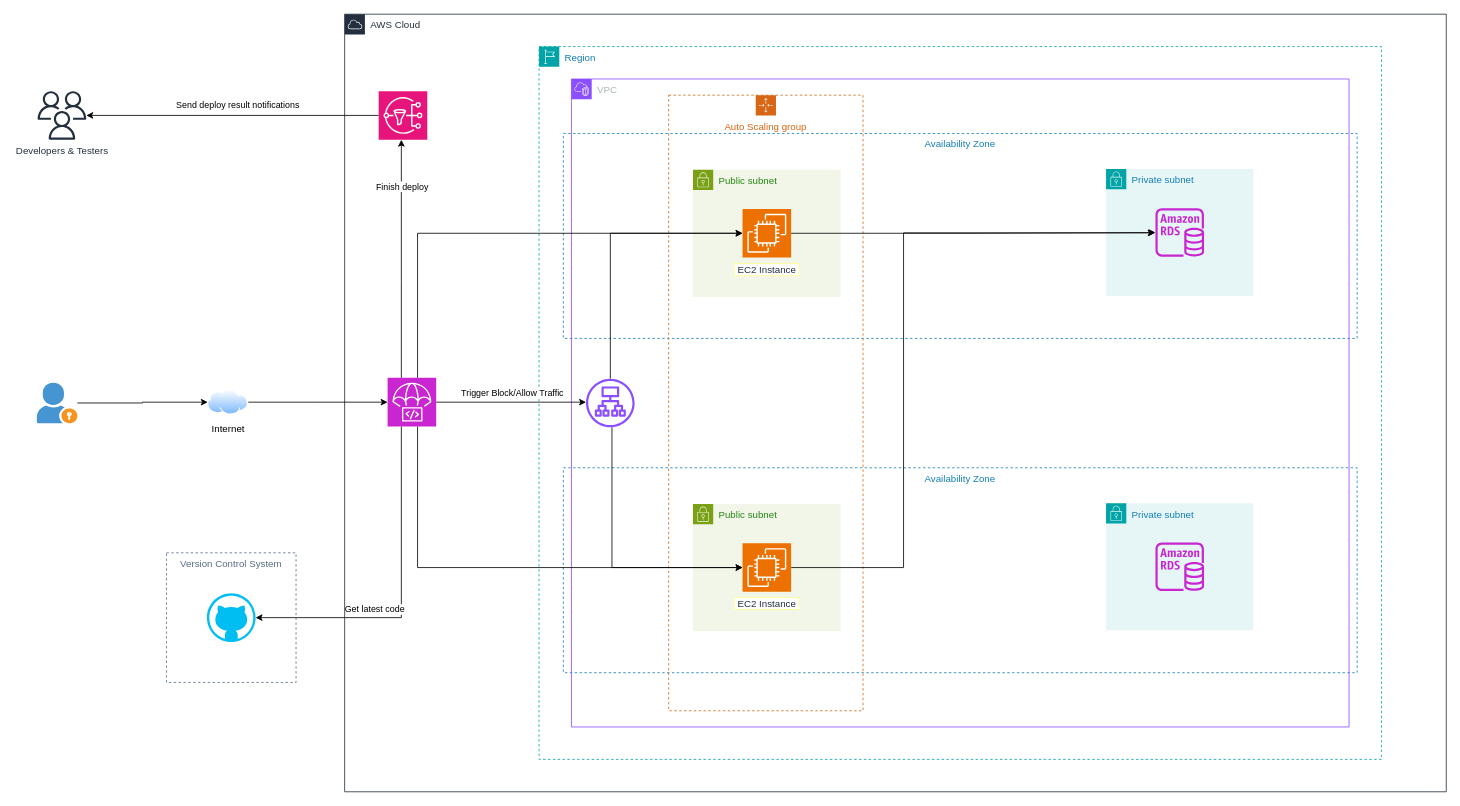
Image size: 1460x806. Some labels were removed from this diagram. Here are the shapes that lost their labels. From the top down, the centre of each, then its label:
the point at 402,115: Simple Notification Service
the point at 1179,232: Primary RDS Instance
the point at 56,402: Deployment Admin
the point at 411,401: CodeDeploy Service
the point at 610,402: Application Load Balancer
the point at 1179,566: Standby RDS Instance
the point at 231,617: Github
